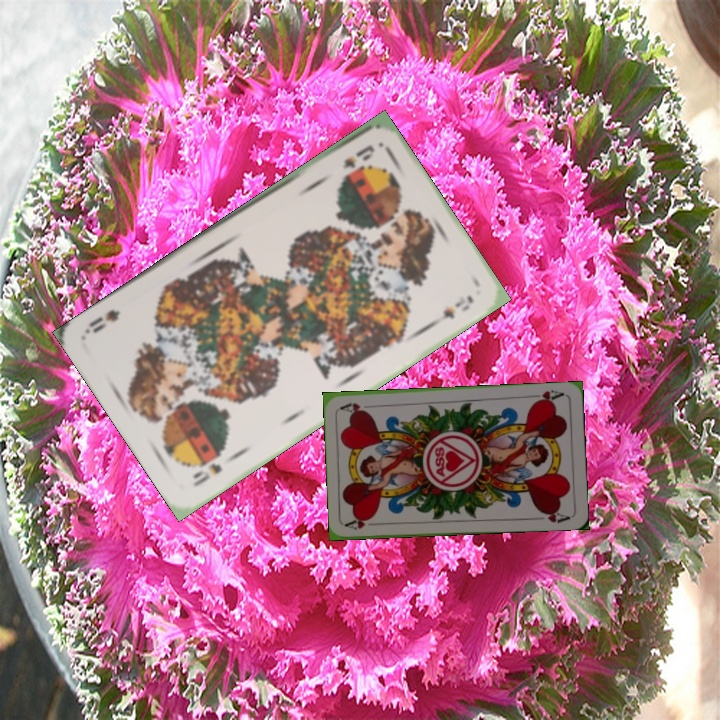HA: (526, 385, 567, 406), (343, 514, 375, 532)
SO: (339, 140, 377, 172), (188, 459, 225, 490)
